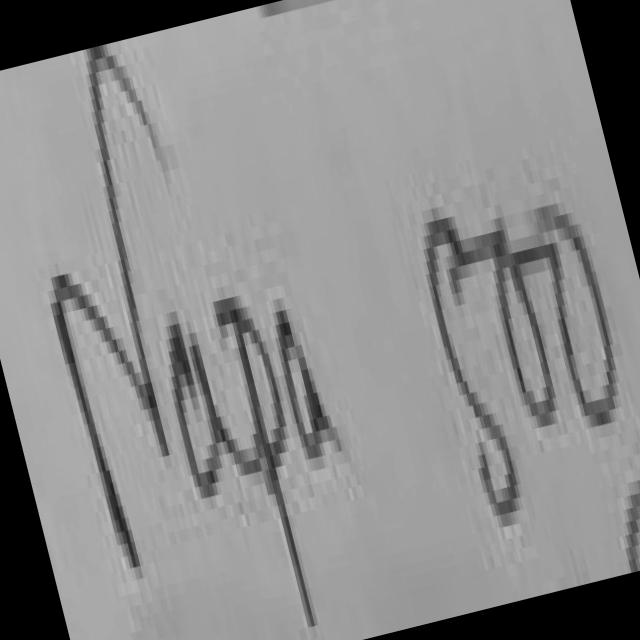0: (519, 165, 640, 476), (468, 196, 570, 445)
5: (382, 163, 568, 608)
N: (0, 83, 212, 594)
a: (250, 254, 365, 516), (146, 306, 260, 520)
p: (191, 238, 346, 640)
